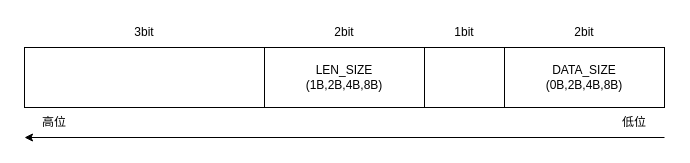
Image size: 690x163. Some labels were removed from this diagram. The shapes that lost their labels are listed below. From the top down, each one's centre as x and y in pixels, then its label:
pixel 144 77: 保留给后续扩展，目前应全为0
pixel 464 77: 是否存储完整类型信息
